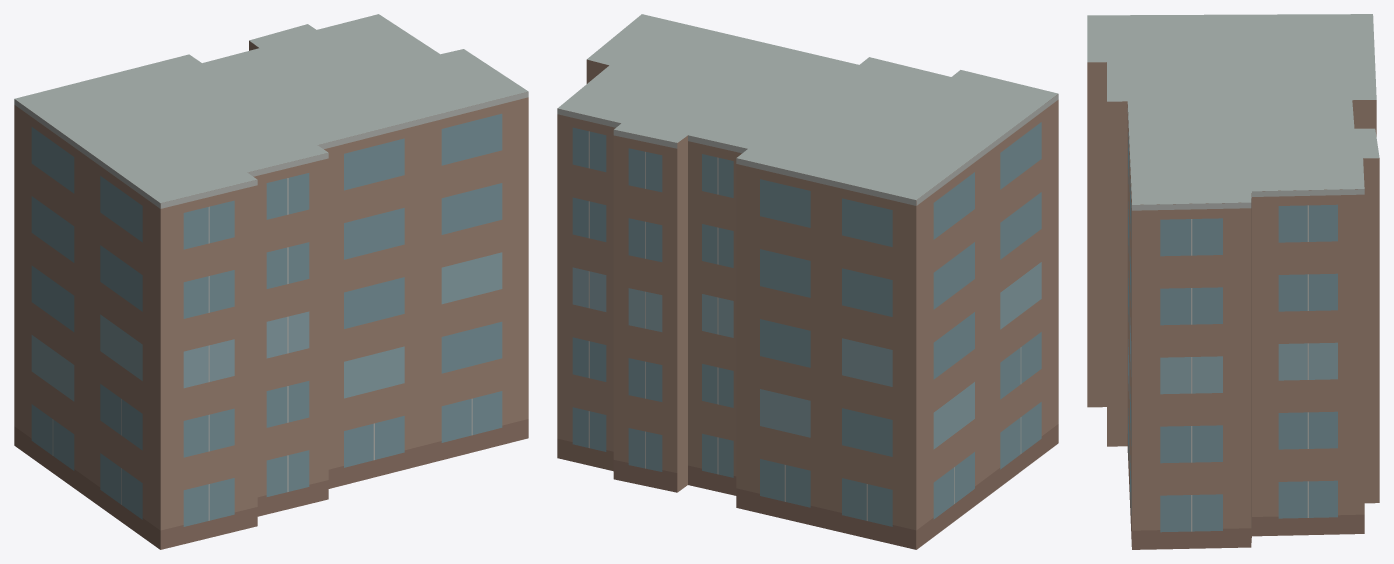
Rendered from survey-upis-32473946.glb.
3 renders of one model, left to right at view 1: azimuth 30°, elevation 25°; view 2: azimuth 150°, elevation 25°; view 3: azimuth 270°, elevation 25°, orthographic.
Parts seen in each view (by area): view 1: survey-upis-32473946.tmp; view 2: survey-upis-32473946.tmp; view 3: survey-upis-32473946.tmp.
Part boxes in pixels (left/top/right/bottom): survey-upis-32473946.tmp: left=14, top=14, right=528, bottom=549; survey-upis-32473946.tmp: left=557, top=14, right=1058, bottom=549; survey-upis-32473946.tmp: left=1087, top=14, right=1379, bottom=549.
Size of the model in its own units: 17.46 by 14.7 by 11.3.
